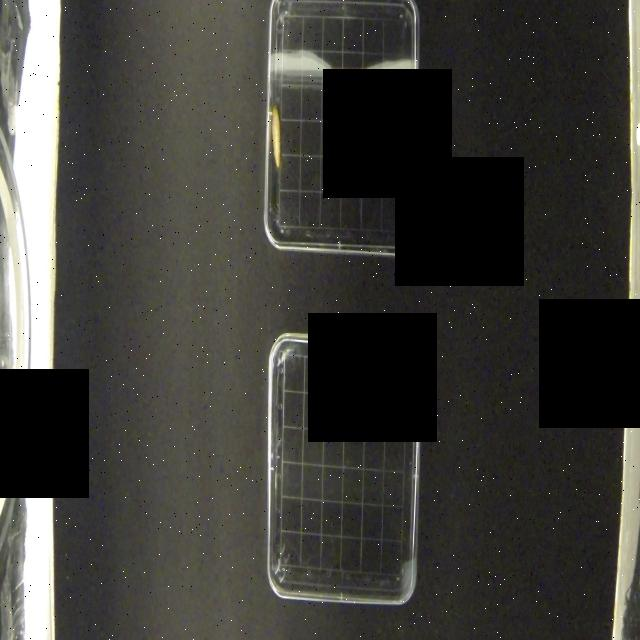larva: (317, 343, 350, 371)
